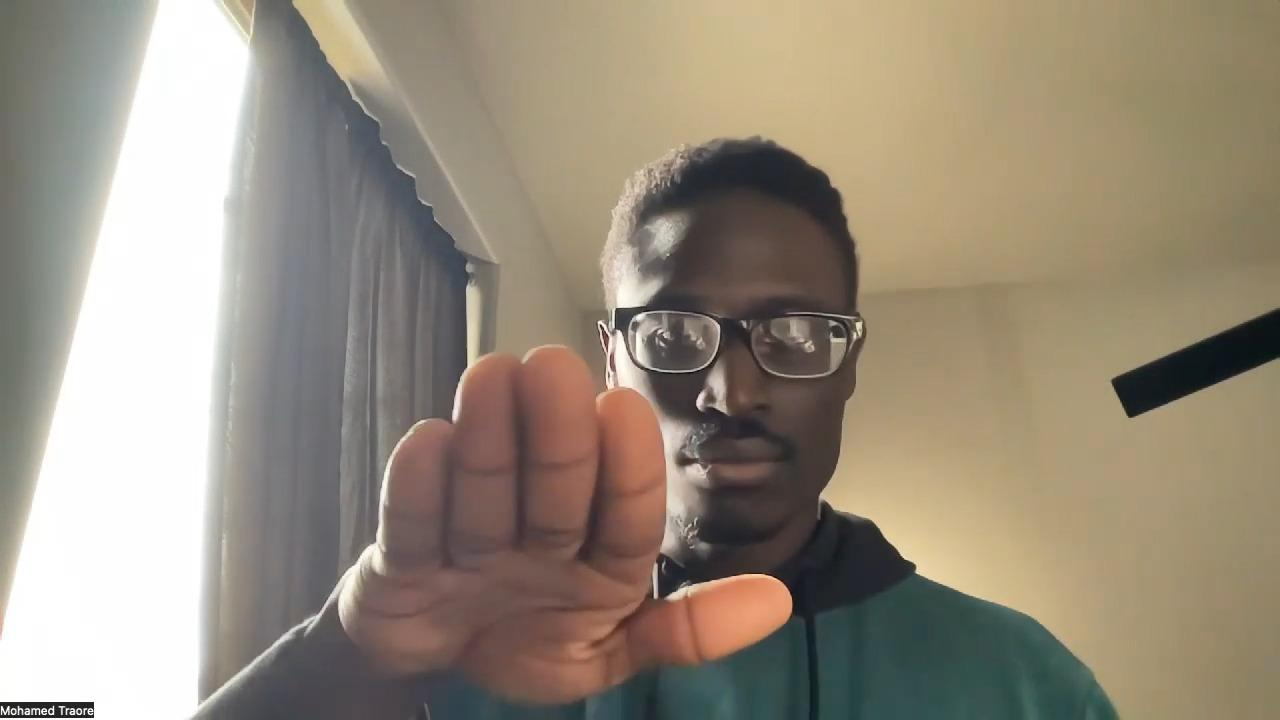Paper: (337, 342, 791, 704)
